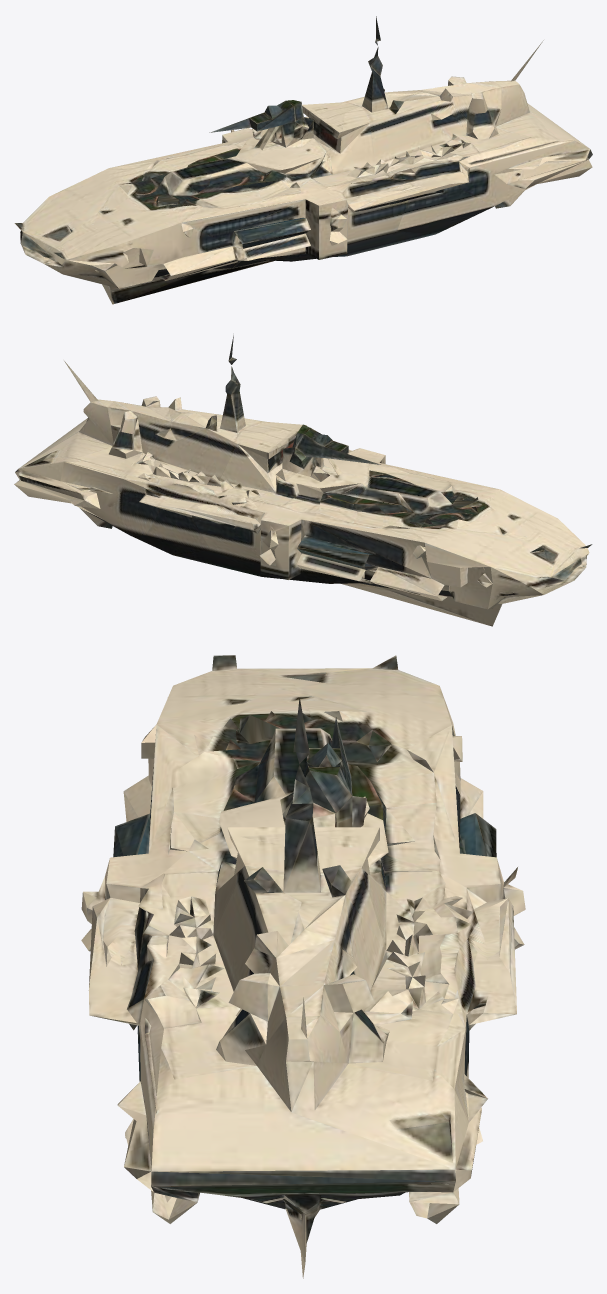
File: nation-m-carrier.glb
3 views of the same model, one above another, from view 1: azimuth 30°, elevation 25°; view 2: azimuth 150°, elevation 25°; view 3: azimuth 270°, elevation 25° (orthographic). The views are drawn at different scales.
Size of the model in its own units: 1.9 by 0.787 by 0.6954.
1 material, 1 textured.
